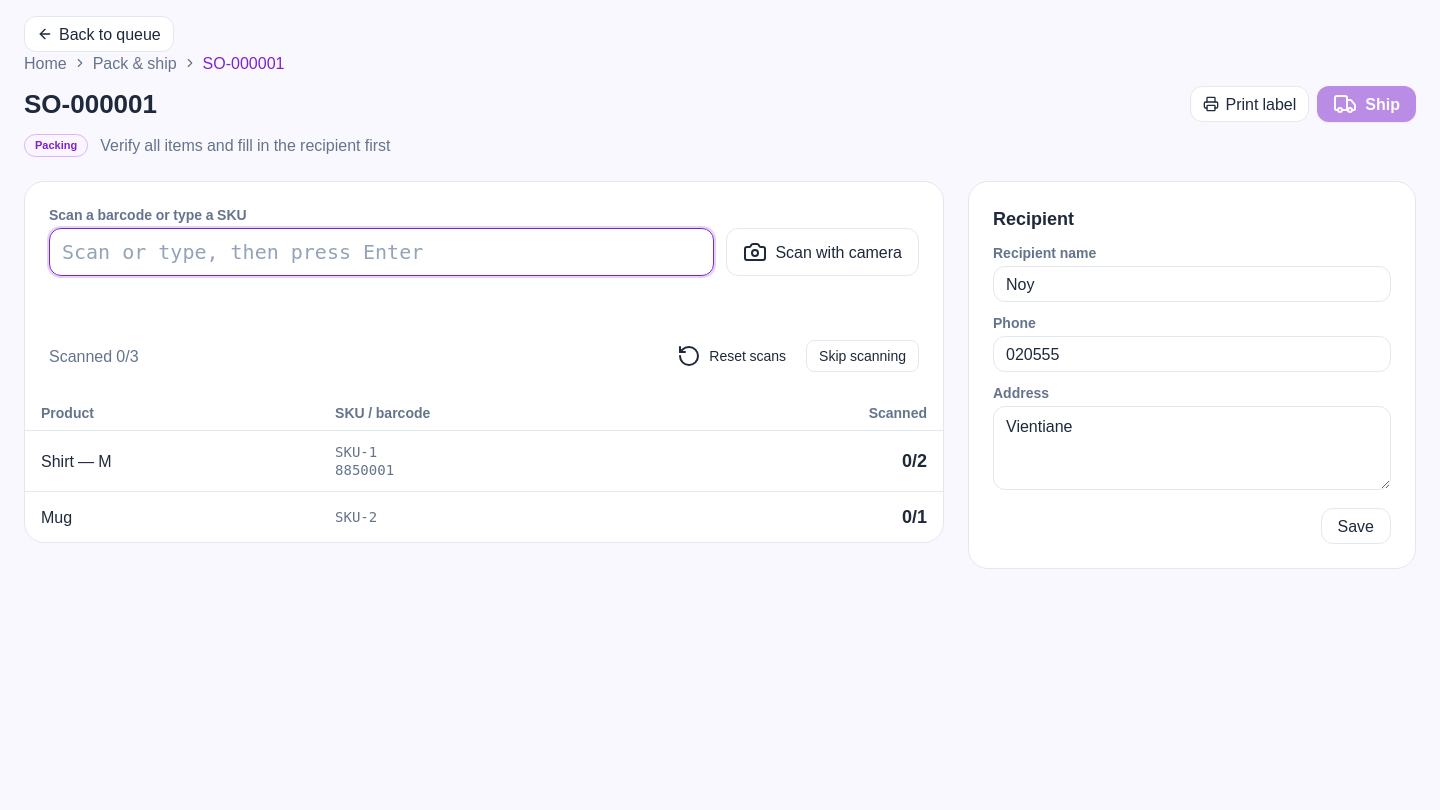
Test case: PackPage › override: ສະເພາະຜູ້ມີ orders:write; ເຫດຜົນ → POST override
Expected: the field labelled "Scan a barcode or type a SKU" is shown, [49,228,714,276]
Click the button "Skip scanning" at point(863, 356), box [806,340,919,372]
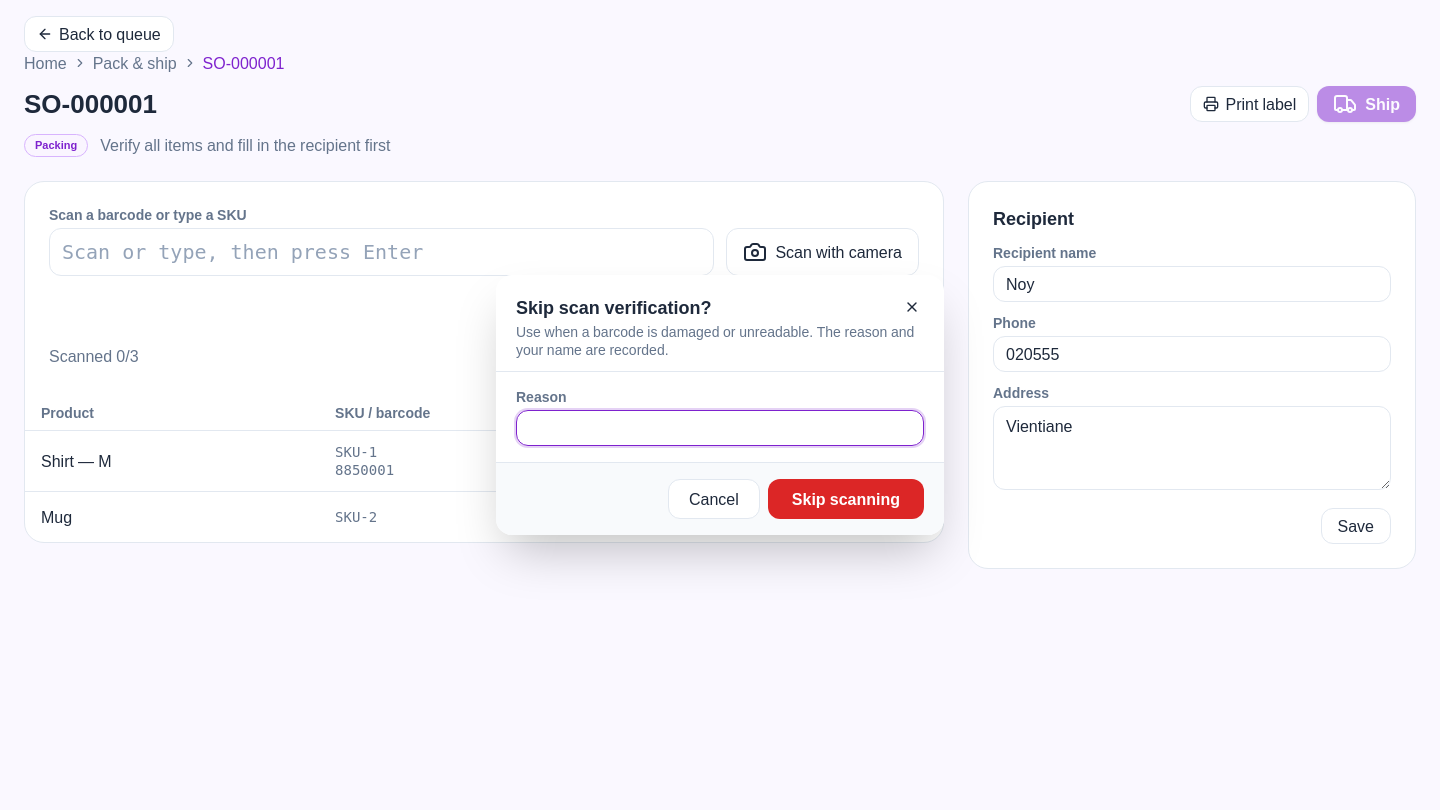
Type "torn barcode" into the field labelled "Reason" at point(720, 428), box [516,410,924,446]
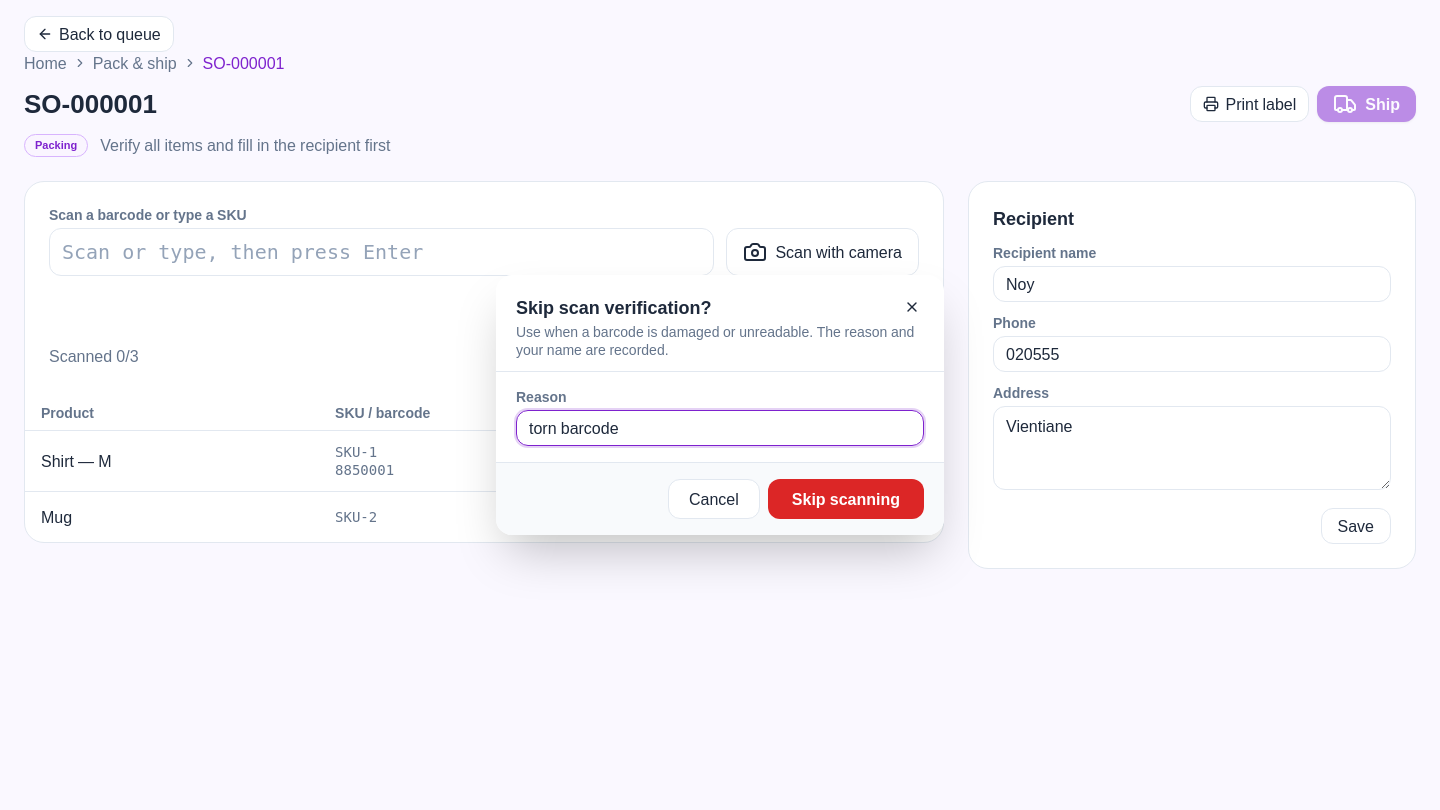
Click the button "Skip scanning" at point(846, 499), box [768,479,924,519]
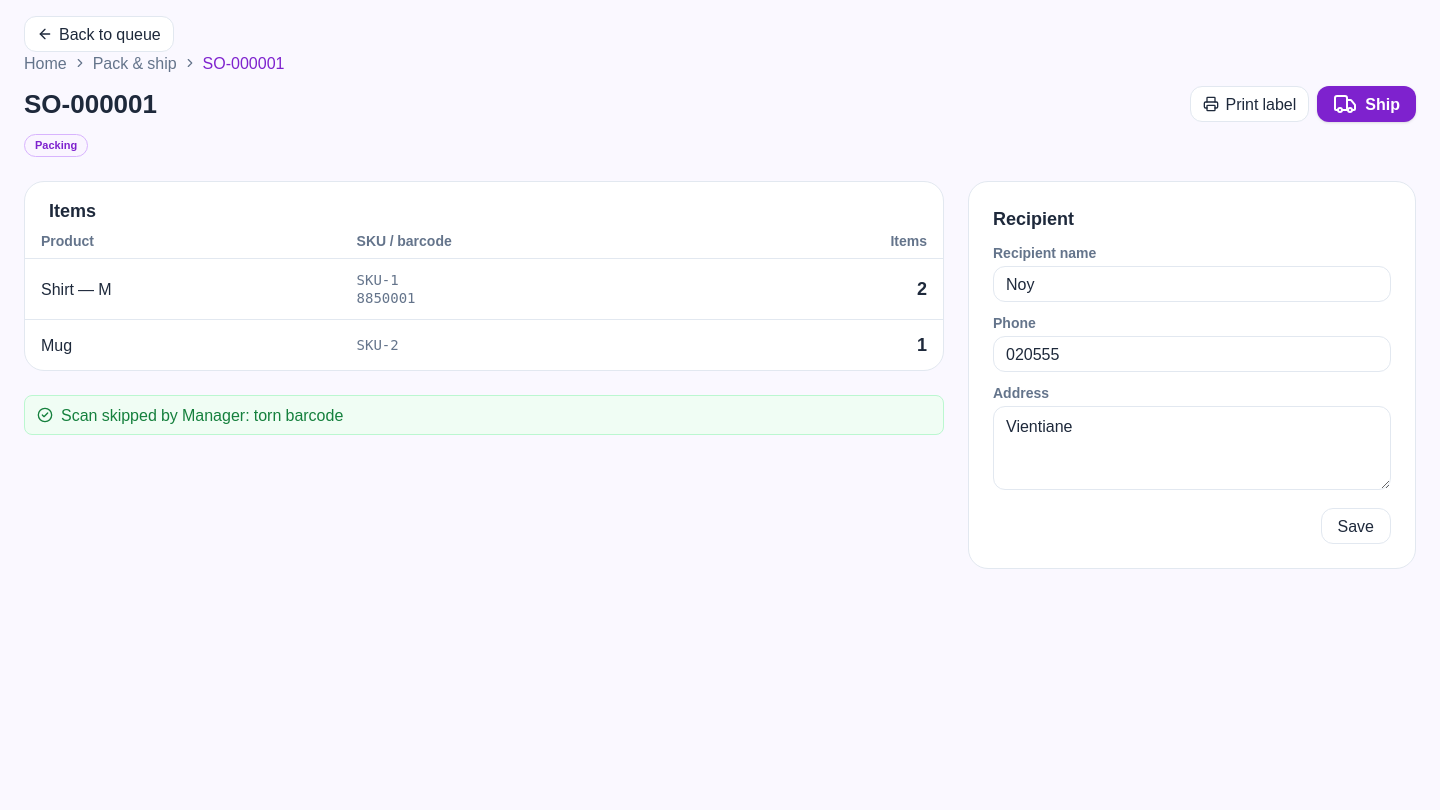
Result: the text "Scan skipped by Manager: torn barcode" is shown at [24,394,944,434]
